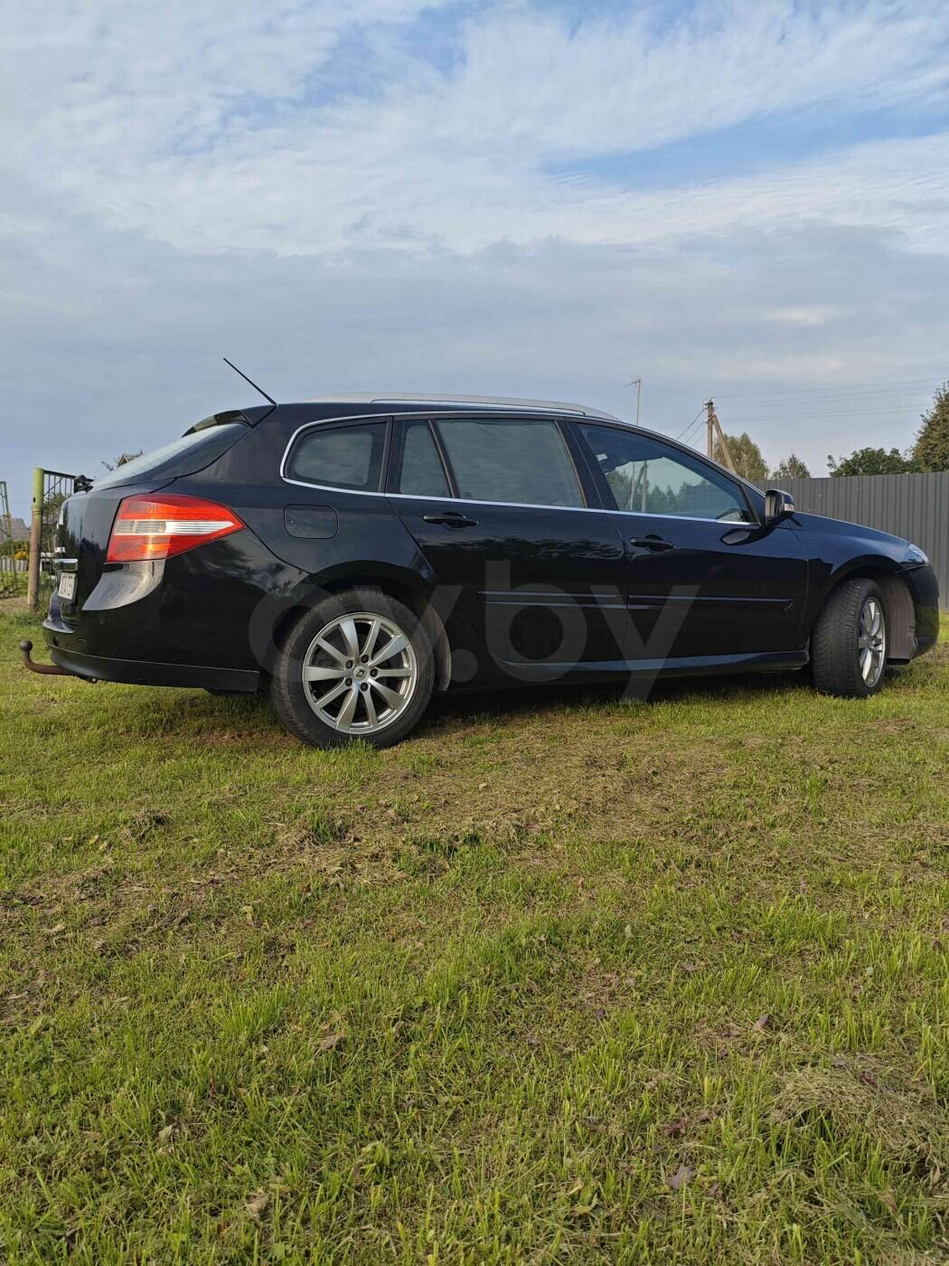Laguna_2010-2015: (22, 392, 949, 754)
